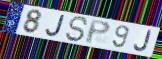8: (22, 9, 43, 35)
9: (111, 25, 130, 49)
J: (45, 14, 67, 38), (133, 29, 153, 53)
P: (85, 19, 112, 45)
S: (65, 16, 89, 43)
